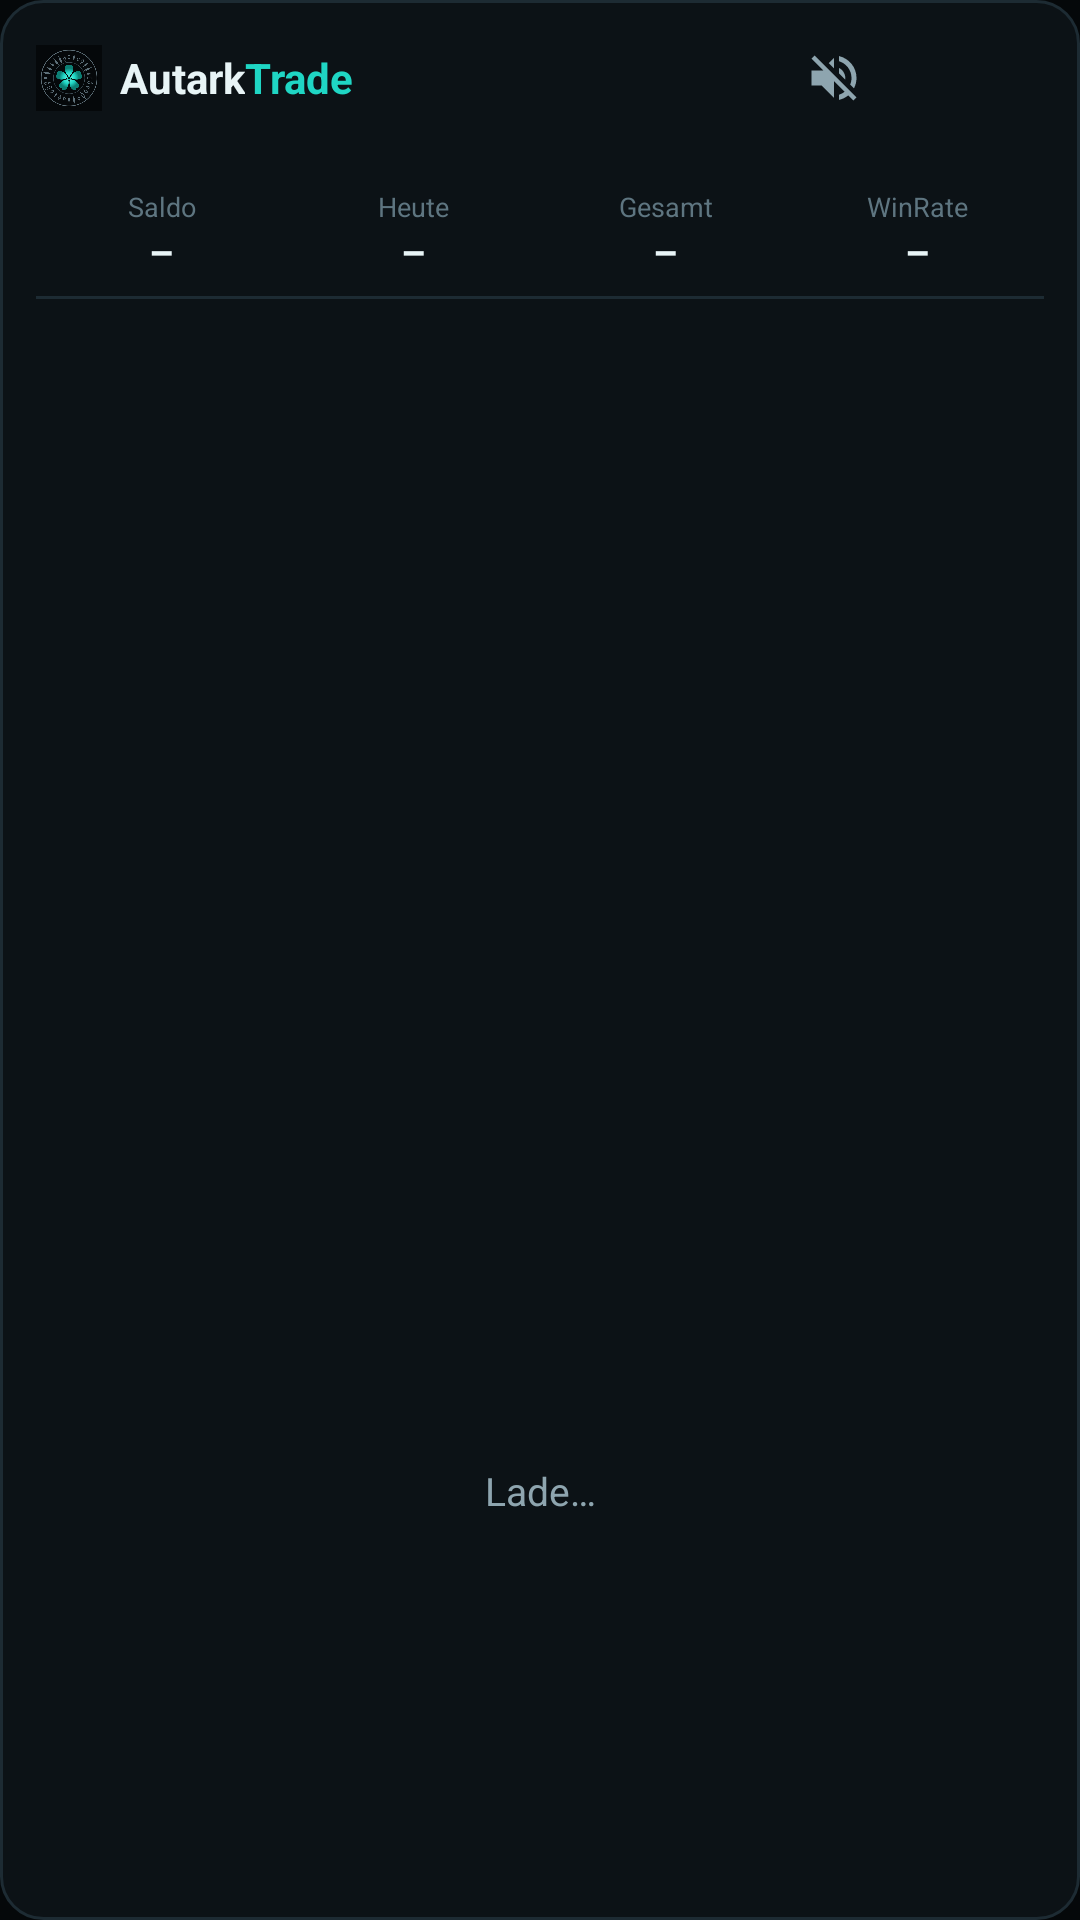

Named icons in this screenshot (1080px x 1920px) and their centers, [x,y]:
Sprachausgabe der Alarme ein-/ausschalten: [834,78]
